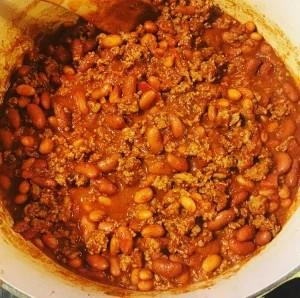RajmaCurry: (1, 5, 300, 295)
